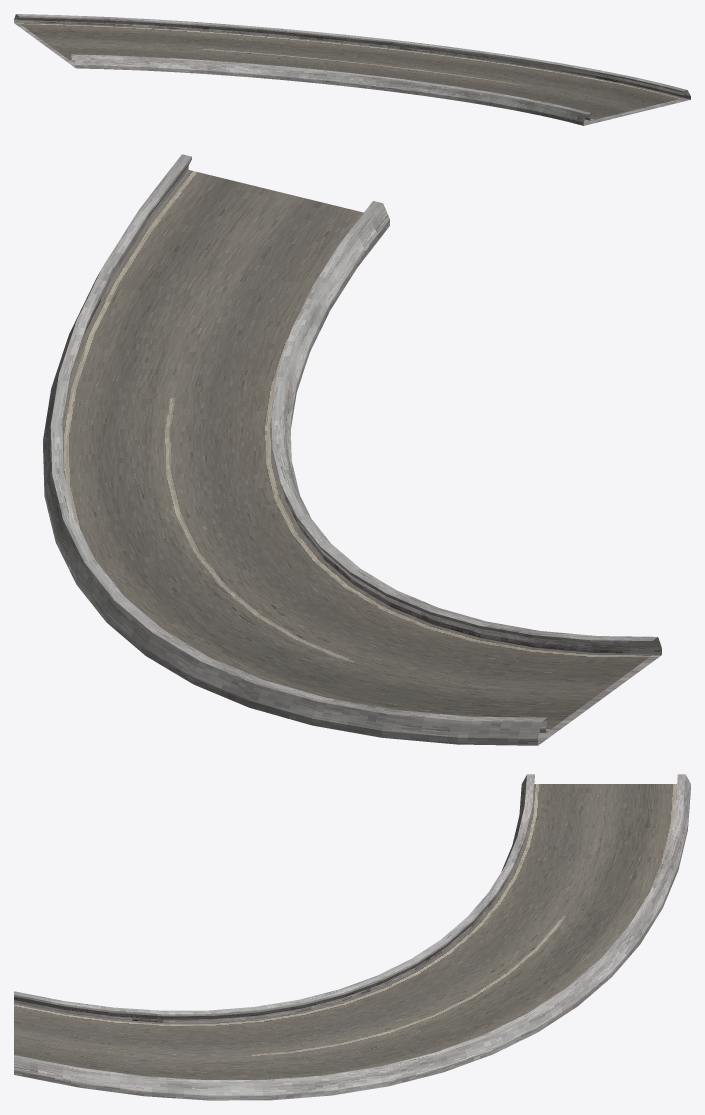
File: road-Turn-BiSlopeDown-BiSlopeUp-Even-Left-Size4.glb
3 views of the same model, one above another, from view 1: azimuth 30°, elevation 25°; view 2: azimuth 150°, elevation 25°; view 3: azimuth 270°, elevation 25° (orthographic). The views are drawn at different scales.
Visible parts, largest first — view 1: road-Turn-BiSlopeDown-BiSlopeUp-Even-Left-Size4; view 2: road-Turn-BiSlopeDown-BiSlopeUp-Even-Left-Size4; view 3: road-Turn-BiSlopeDown-BiSlopeUp-Even-Left-Size4.
Boxes of the visible parts, x1,y1,x2,y2 form: road-Turn-BiSlopeDown-BiSlopeUp-Even-Left-Size4: (14, 14, 690, 125); road-Turn-BiSlopeDown-BiSlopeUp-Even-Left-Size4: (43, 154, 661, 745); road-Turn-BiSlopeDown-BiSlopeUp-Even-Left-Size4: (14, 774, 690, 1100).
Size of the model in its own units: 4 by 0.5078 by 4.
2 materials, 2 textured.
